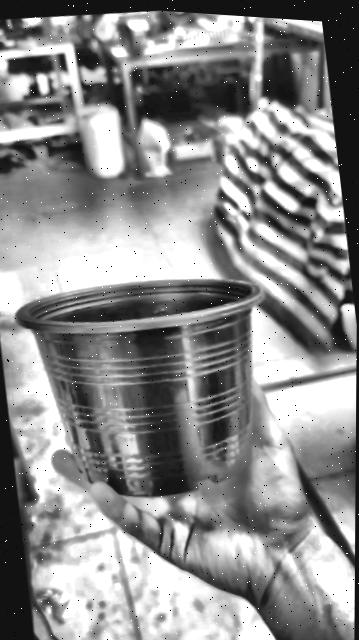pot: (16, 279, 259, 496)
